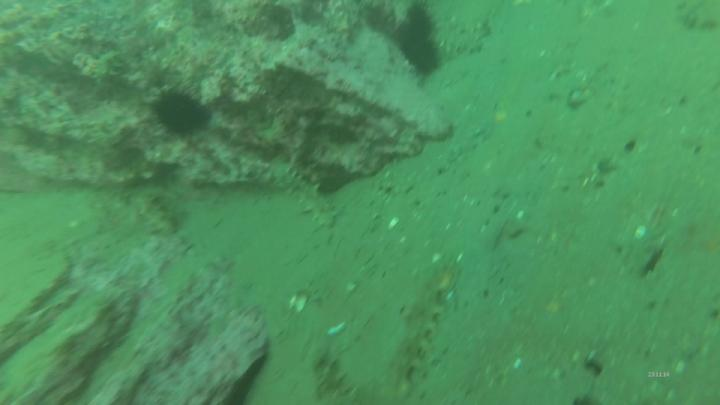echinus: (144, 83, 216, 142), (394, 1, 448, 78)
holothurian: (393, 259, 460, 389), (128, 191, 185, 239), (294, 178, 343, 231)
